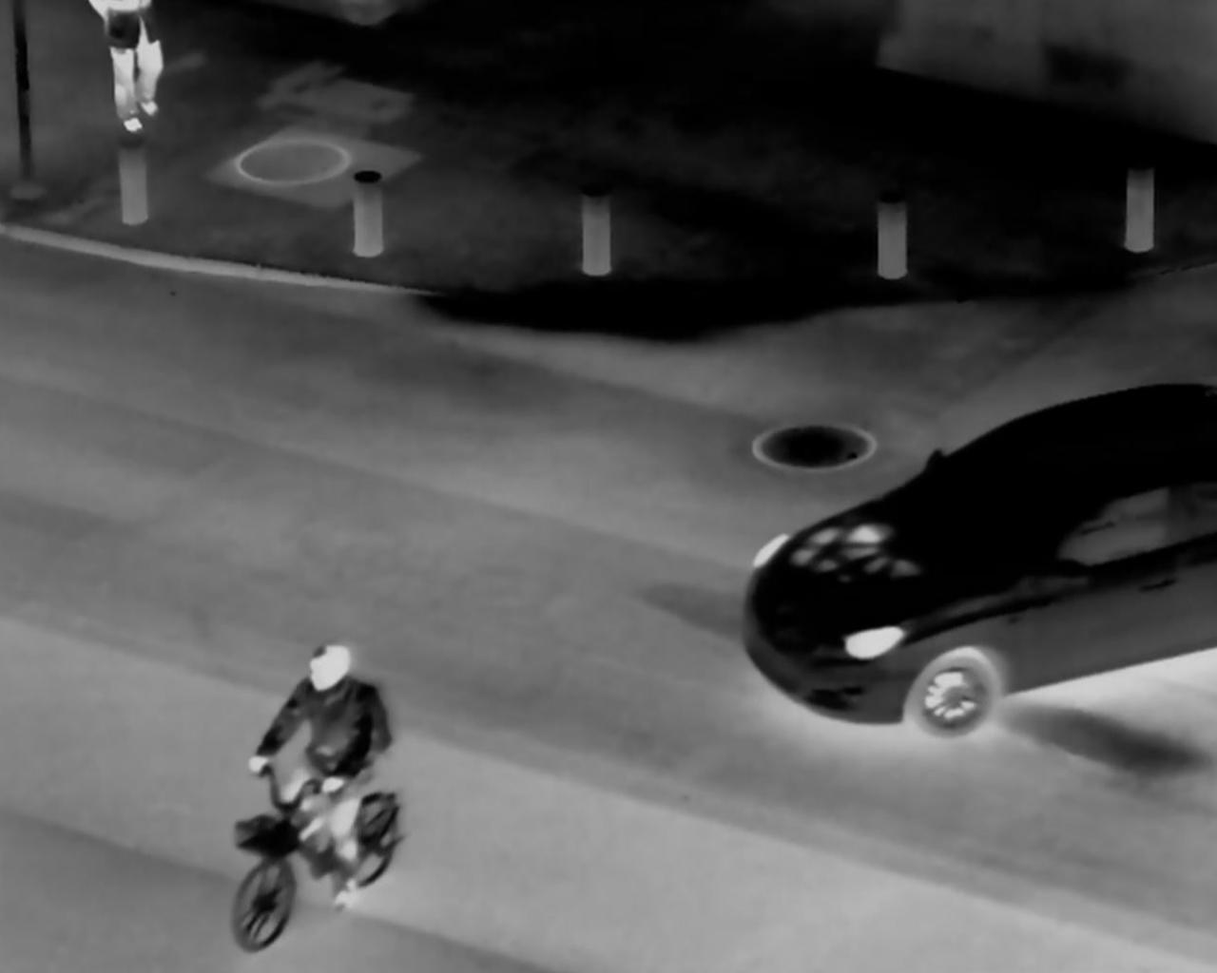person: (244, 619, 398, 918), (81, 2, 186, 146)
